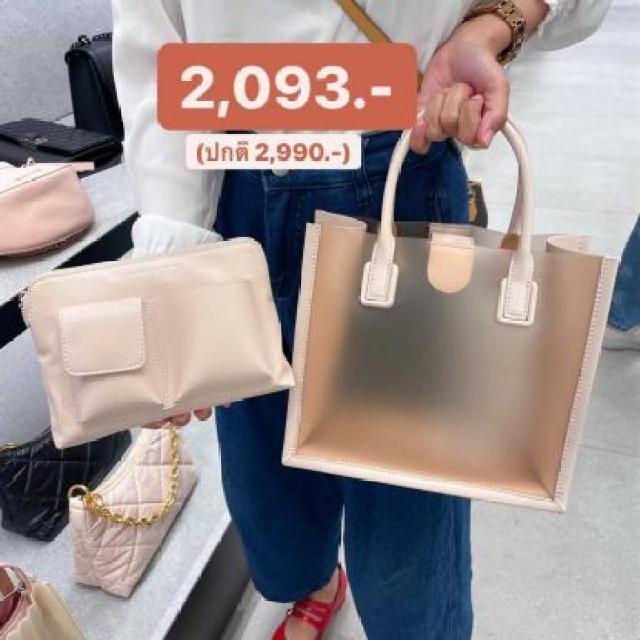Bag: (283, 89, 619, 543), (6, 205, 300, 467), (46, 415, 206, 628)
